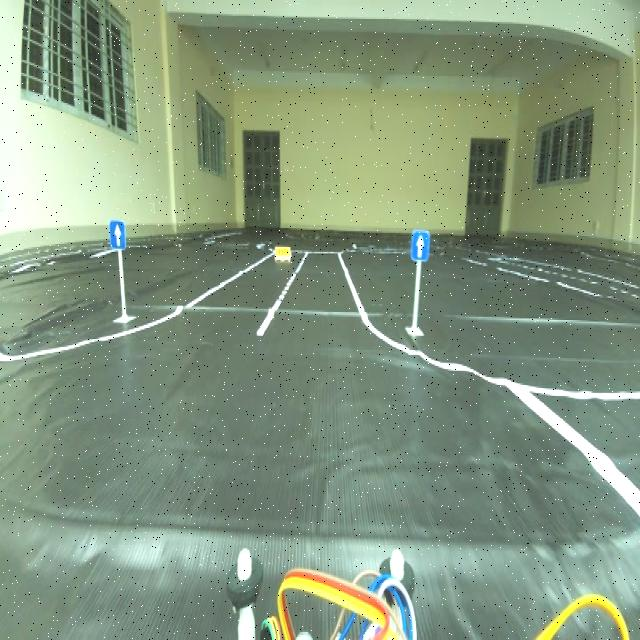onewayroad: (106, 216, 128, 259), (410, 223, 433, 264)
roadblock: (272, 242, 294, 264)
